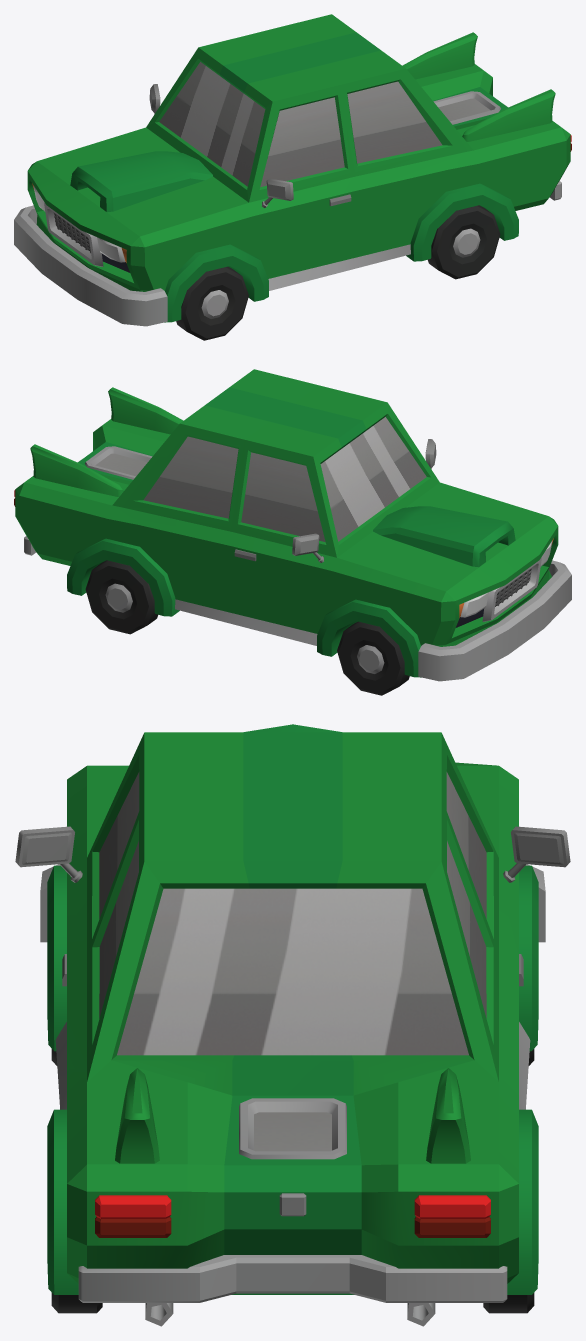
Rendered from Car_10_H.fbx.
3 renders of one model, top to bottom at view 1: azimuth 30°, elevation 25°; view 2: azimuth 150°, elevation 25°; view 3: azimuth 270°, elevation 25°, orthographic. The views are drawn at different scales.
Parts seen in each view (by area): view 1: Car_10_H, RL, FL; view 2: Car_10_H, RR, FR; view 3: Car_10_H, RL, RR.
Boxes of the visible parts, x1,y1,x2,y2 form: Car_10_H: (14,14,571,326); RL: (428,205,500,279); FL: (176,266,248,340); Car_10_H: (14,369,571,681); RR: (85,560,157,634); FR: (337,621,409,695); Car_10_H: (15,724,570,1326); RL: (51,1293,102,1313); RR: (483,1293,534,1313).
Size of the model in its own units: 358 by 149 by 185.
